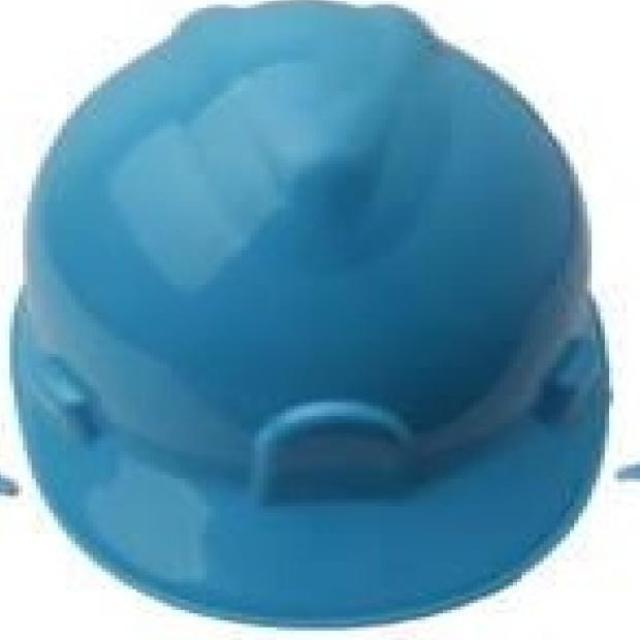helmet: (8, 0, 611, 627)
